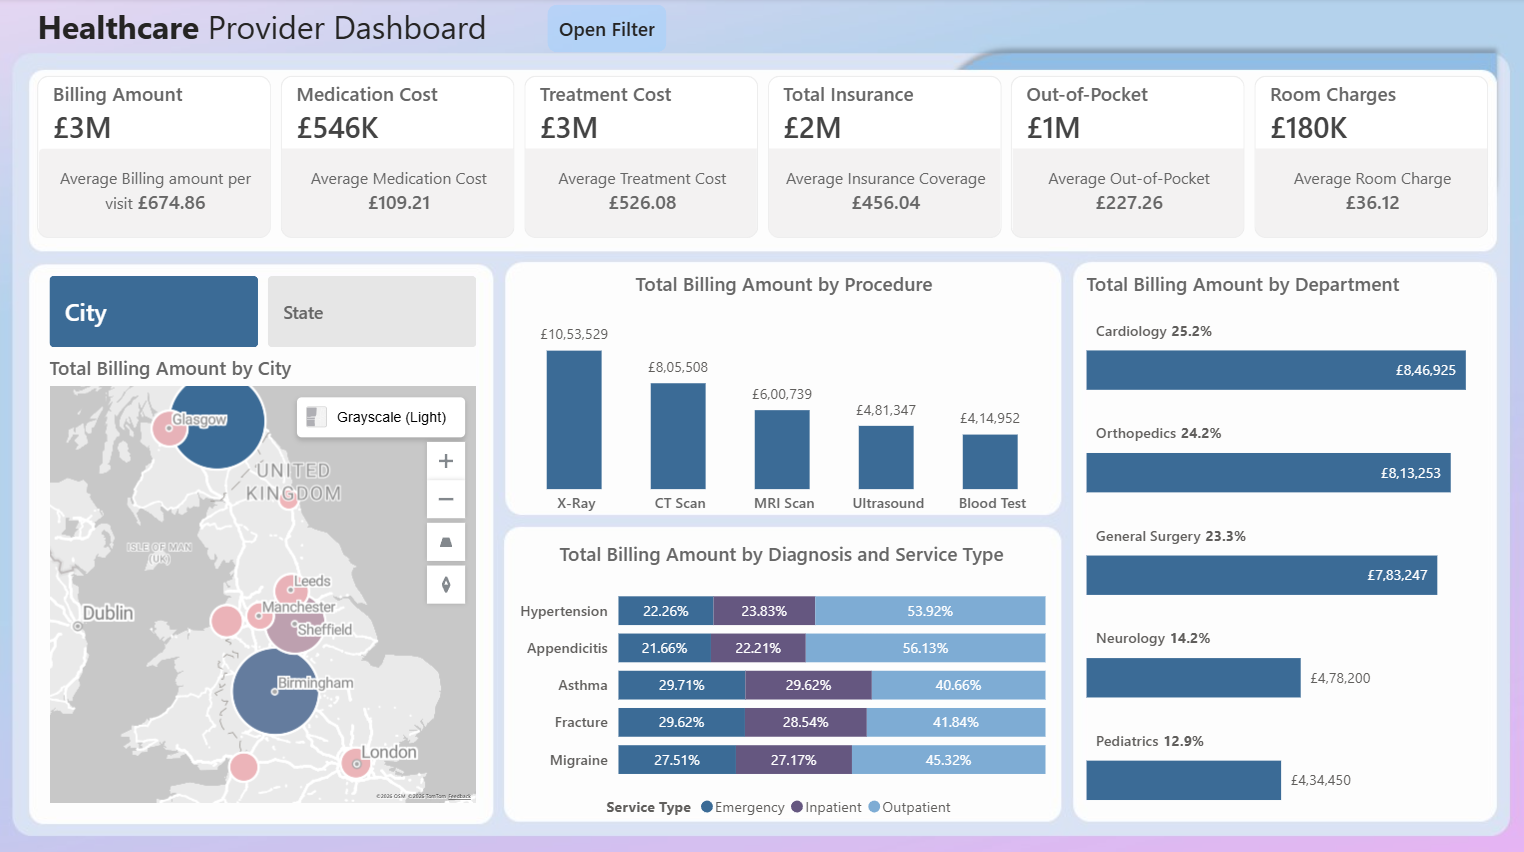

Layout of this report page (visuals, bound fields, positions):
{"tool":"powerbi","page":{"name":"Financial Analysis","canvas":[1280,720],"ordinal":1},"visuals":[{"type":"cardVisual","fields":{"Data":["DAX_calculation.Total Billing Amount","DAX_calculation.Total Medication Cost","DAX_calculation.Total Treatment Cost","DAX_calculation.Total Insurance Coverage","DAX_calculation.Out-of-Pocket","DAX_calculation.Total Room Charges"]},"box":[14.3,48.9,1254.3,170.5],"z":0},{"type":"actionButton","title":"Open","box":[458.8,5,100,40],"z":1000,"group":"g1"},{"type":"azureMap","fields":{"Category":["cities.City"],"Size":["DAX_calculation.Total Billing Amount"]},"box":[35.8,298.1,368.4,381.5],"z":1000},{"type":"advancedSlicerVisual","fields":{"Values":["Patients Location Switch.Patients Location Switch"]},"box":[35.8,227.7,368.4,70.3],"z":2000},{"type":"clusteredColumnChart","fields":{"Category":["procedures.Procedure"],"Y":["DAX_calculation.Total Billing Amount"]},"box":[418.5,227.7,478.1,214],"z":3000},{"type":"hundredPercentStackedBarChart","fields":{"Y":["DAX_calculation.Total Billing Amount"],"Category":["diagnoses.Diagnosis"],"Series":["visits.Service Type"]},"box":[429.2,454.3,451.9,242],"z":4000},{"type":"clusteredBarChart","title":"Total Billing Amount by Department","fields":{"Category":["departments.Department"],"Y":["DAX_calculation.Blank measure","DAX_calculation.Total Billing Amount"]},"box":[904.9,227.7,355.3,451.9],"z":5000},{"type":"textbox","box":[26.2,0,392.5,48.8],"z":6000},{"type":"group","id":"g1","title":"Slicers buttons","box":[268.8,5,290,71.2],"z":8000},{"type":"actionButton","box":[1141.4,0,138.6,40],"z":9000}]}

Visuals, with their boxes in screenshot pixels (x1, y1, x2, y2), scaled from the page's 1280x720 canvas onto the 1524x852 screenshot:
cardVisual - DAX_calculation.Total Billing Amount x DAX_calculation.Total Medication Cost: [x1=17, y1=58, x2=1510, y2=260]
"Open" actionButton: [x1=546, y1=6, x2=665, y2=53]
azureMap - cities.City x DAX_calculation.Total Billing Amount: [x1=43, y1=353, x2=481, y2=804]
advancedSlicerVisual - Patients Location Switch.Patients Location Switch: [x1=43, y1=269, x2=481, y2=353]
clusteredColumnChart - procedures.Procedure x DAX_calculation.Total Billing Amount: [x1=498, y1=269, x2=1068, y2=523]
hundredPercentStackedBarChart - DAX_calculation.Total Billing Amount x diagnoses.Diagnosis: [x1=511, y1=538, x2=1049, y2=824]
"Total Billing Amount by Department" clusteredBarChart: [x1=1077, y1=269, x2=1500, y2=804]
textbox: [x1=31, y1=0, x2=499, y2=58]
"Slicers buttons" group: [x1=320, y1=6, x2=665, y2=90]
actionButton: [x1=1359, y1=0, x2=1523, y2=47]
